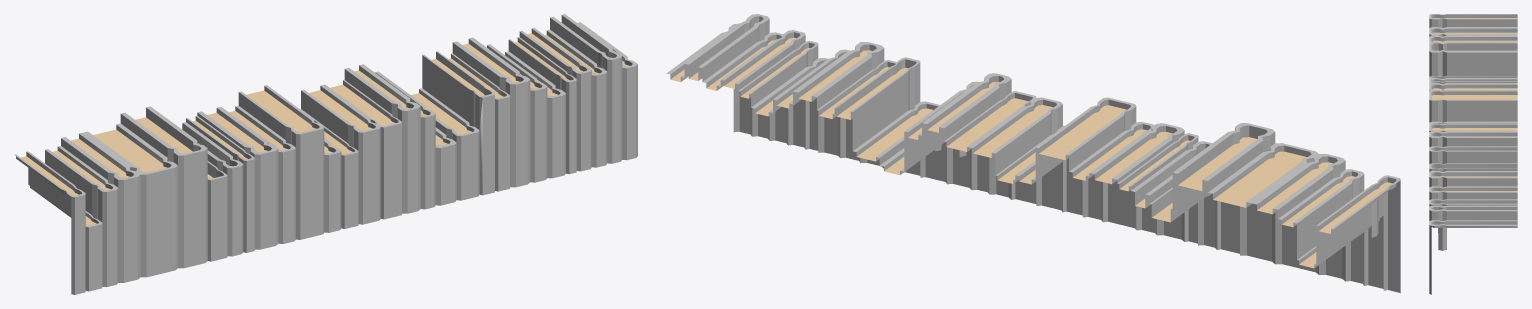
File: prop_bibllioteca_libros002.fbx
3 views of the same model, side by side, from view 1: azimuth 30°, elevation 25°; view 2: azimuth 150°, elevation 25°; view 3: azimuth 270°, elevation 25° (orthographic). The views are drawn at different scales.
Visible parts, largest first — view 1: prop_bibllioteca_libros002; view 2: prop_bibllioteca_libros002; view 3: prop_bibllioteca_libros002.
Part boxes in pixels (box(x1,y1,x2,y2)): prop_bibllioteca_libros002: box(14, 14, 637, 294); prop_bibllioteca_libros002: box(666, 14, 1400, 293); prop_bibllioteca_libros002: box(1429, 14, 1517, 294).
Size of the model in its own units: 200 by 38 by 36.04.
